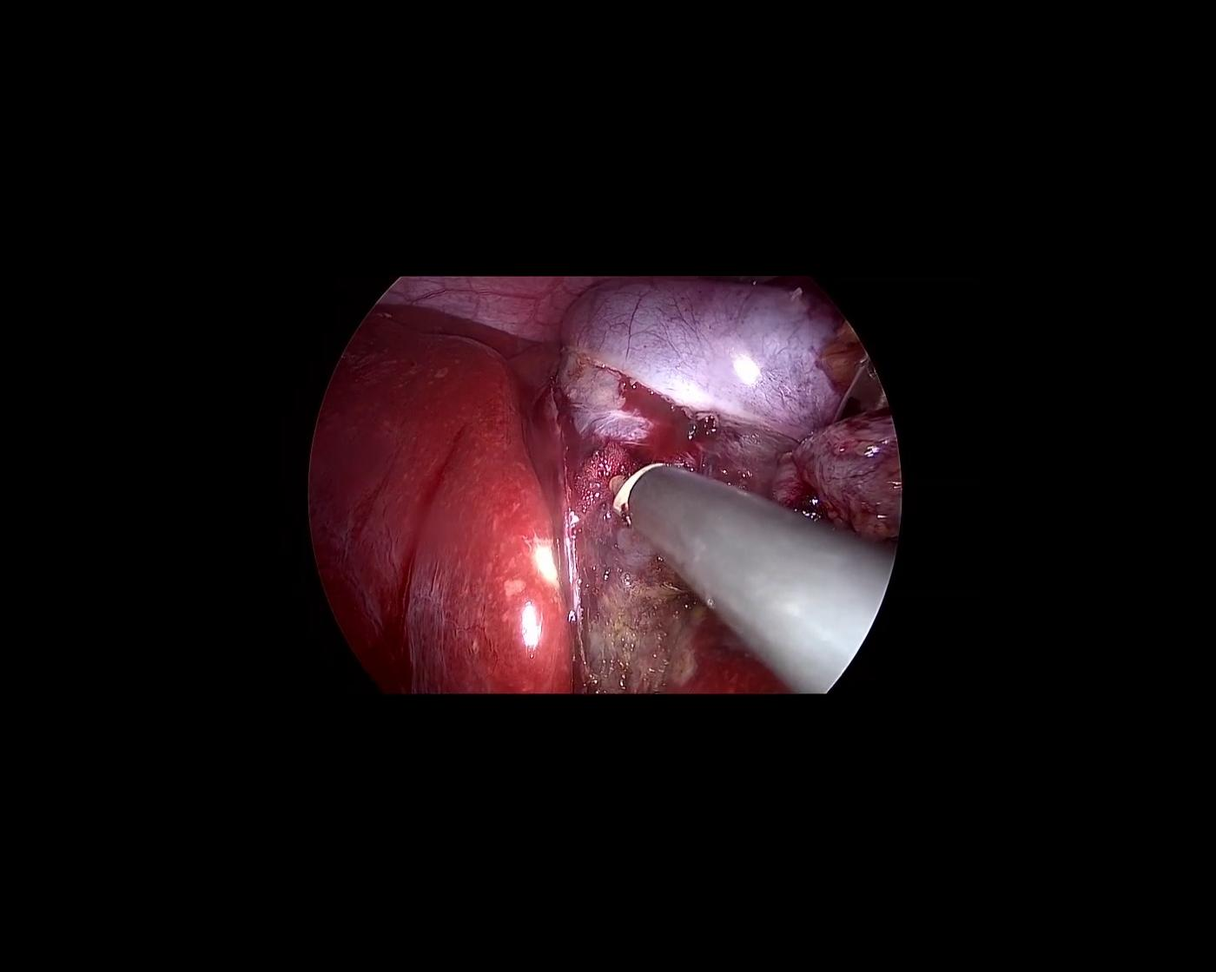Cautery: (557, 442, 899, 709)
Gallbladder: (561, 280, 843, 441)
Liver: (298, 293, 582, 710)
